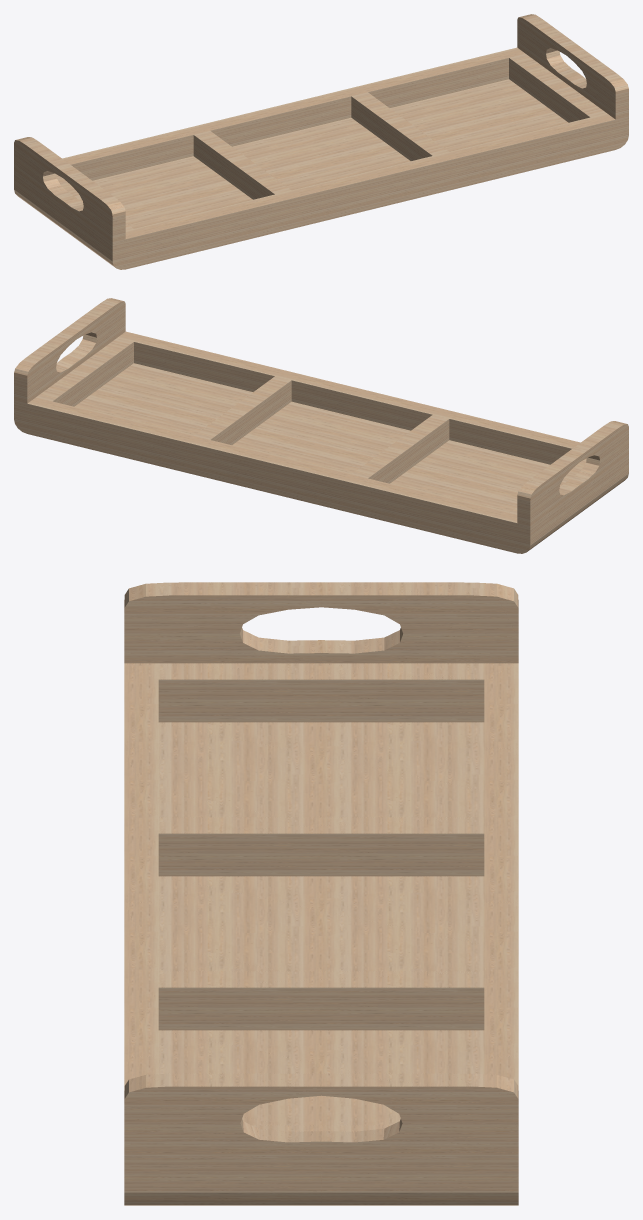
Rendered from Tray_Cats.gltf.
The picture shows the model from 3 angles, top to bottom: view 1: azimuth 30°, elevation 25°; view 2: azimuth 150°, elevation 25°; view 3: azimuth 270°, elevation 25°; orthographic projection. The views are drawn at different scales.
Visible parts, largest first — view 1: Tray_Cats; view 2: Tray_Cats; view 3: Tray_Cats.
Part boxes in pixels (<box>): Tray_Cats: <box>14,14,628,269</box>; Tray_Cats: <box>14,298,628,553</box>; Tray_Cats: <box>124,582,518,1205</box>.
Size of the model in its own units: 8.64 by 1.03 by 2.86.
1 material, 1 textured.
